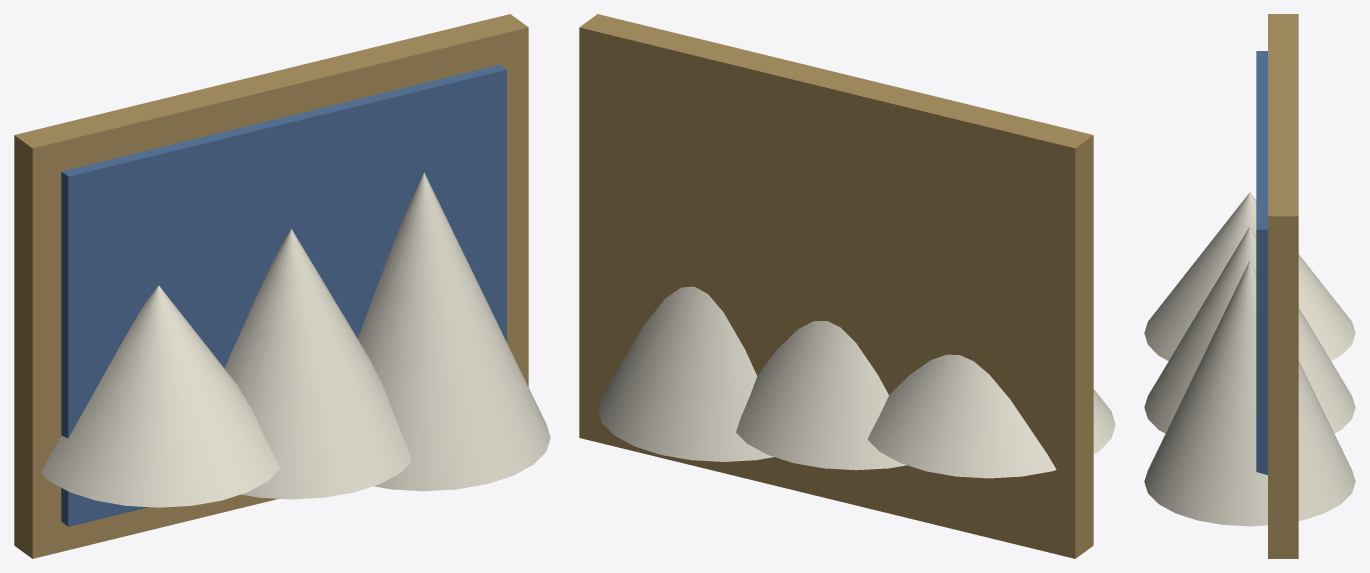
File: painting_mountain.glb
3 views of the same model, side by side, from view 1: azimuth 30°, elevation 25°; view 2: azimuth 150°, elevation 25°; view 3: azimuth 270°, elevation 25° (orthographic). The views are drawn at different scales.
Parts seen in each view (by area): view 1: _MeshInstance3D_1148, _MeshInstance3D_1147, _MeshInstance3D_1151, _MeshInstance3D_1149, _MeshInstance3D_1150; view 2: _MeshInstance3D_1147, _MeshInstance3D_1151, _MeshInstance3D_1150, _MeshInstance3D_1149; view 3: _MeshInstance3D_1151, _MeshInstance3D_1147, _MeshInstance3D_1150, _MeshInstance3D_1149, _MeshInstance3D_1148.
Boxes of the visible parts, left/top/right/bottom form: _MeshInstance3D_1148: left=61, top=64, right=506, bottom=526; _MeshInstance3D_1147: left=14, top=14, right=528, bottom=558; _MeshInstance3D_1151: left=357, top=172, right=550, bottom=491; _MeshInstance3D_1149: left=41, top=285, right=280, bottom=507; _MeshInstance3D_1150: left=224, top=229, right=411, bottom=499; _MeshInstance3D_1147: left=579, top=14, right=1093, bottom=558; _MeshInstance3D_1151: left=597, top=286, right=773, bottom=461; _MeshInstance3D_1150: left=736, top=321, right=906, bottom=470; _MeshInstance3D_1149: left=867, top=354, right=1115, bottom=478; _MeshInstance3D_1151: left=1144, top=260, right=1355, bottom=526; _MeshInstance3D_1147: left=1268, top=14, right=1298, bottom=558; _MeshInstance3D_1150: left=1144, top=226, right=1355, bottom=433; _MeshInstance3D_1149: left=1144, top=192, right=1355, bottom=360; _MeshInstance3D_1148: left=1256, top=51, right=1267, bottom=474.
Bounding box in the file's own units: 0.86 × 0.68 × 0.38.
